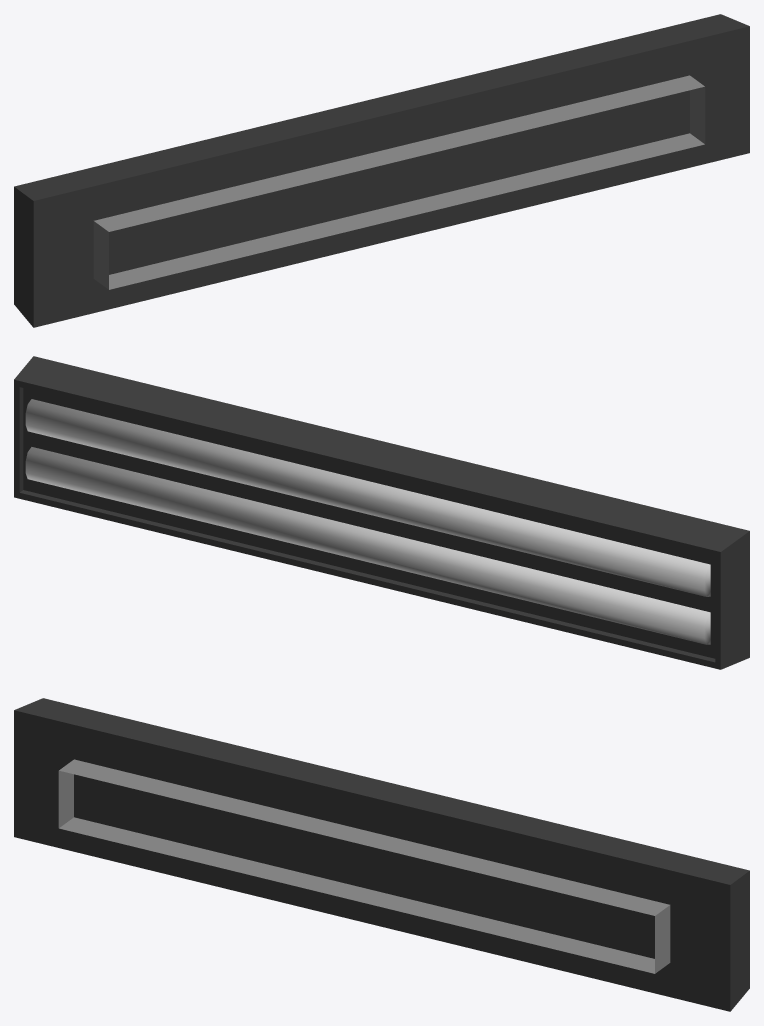
The model's file is Ceiling_Lamp_2.obj.
3 renders of one model, top to bottom at view 1: azimuth 30°, elevation 25°; view 2: azimuth 150°, elevation 25°; view 3: azimuth 330°, elevation 25°, orthographic.
Visible parts, largest first — view 1: Ceiling_Lamp_2; view 2: Ceiling_Lamp_2; view 3: Ceiling_Lamp_2.
Part boxes in pixels (x1,y1,x2,y2): Ceiling_Lamp_2: (14, 14, 749, 327); Ceiling_Lamp_2: (14, 356, 749, 669); Ceiling_Lamp_2: (14, 698, 749, 1011).
Bounding box in the file's own units: 1.09 × 0.1849 × 0.111.
